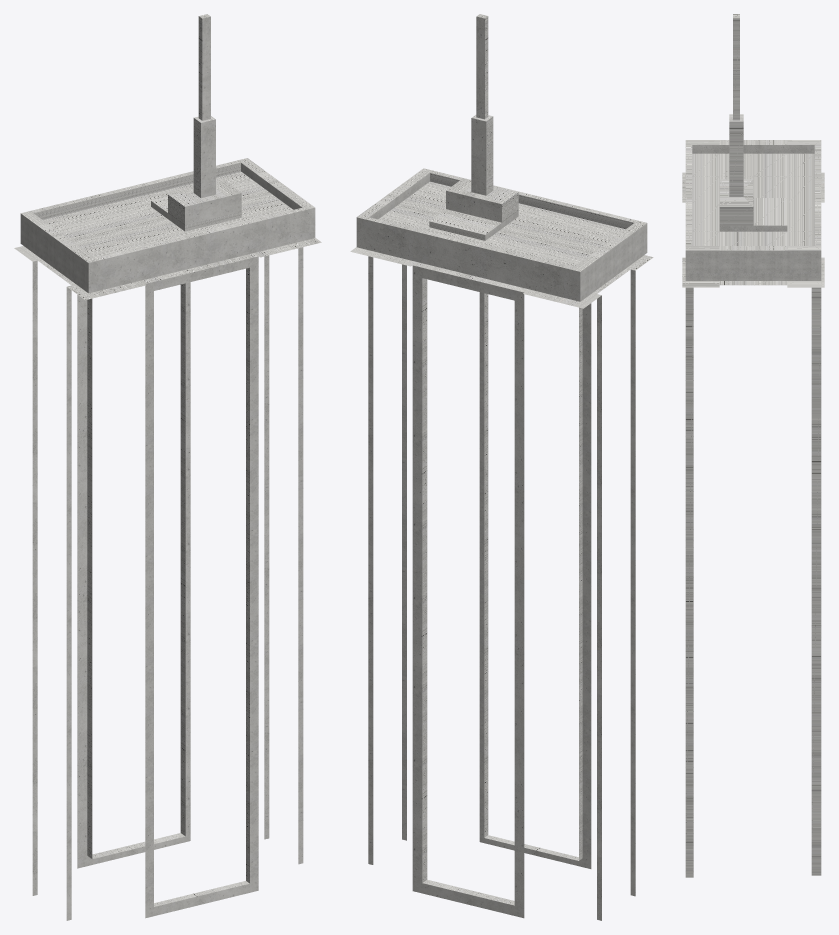
The model's file is edificio.obj.
3 renders of one model, left to right at view 1: azimuth 30°, elevation 25°; view 2: azimuth 150°, elevation 25°; view 3: azimuth 270°, elevation 25°, orthographic.
Size of the model in its own units: 75.41 by 263 by 39.29.
1 material, 1 textured.
